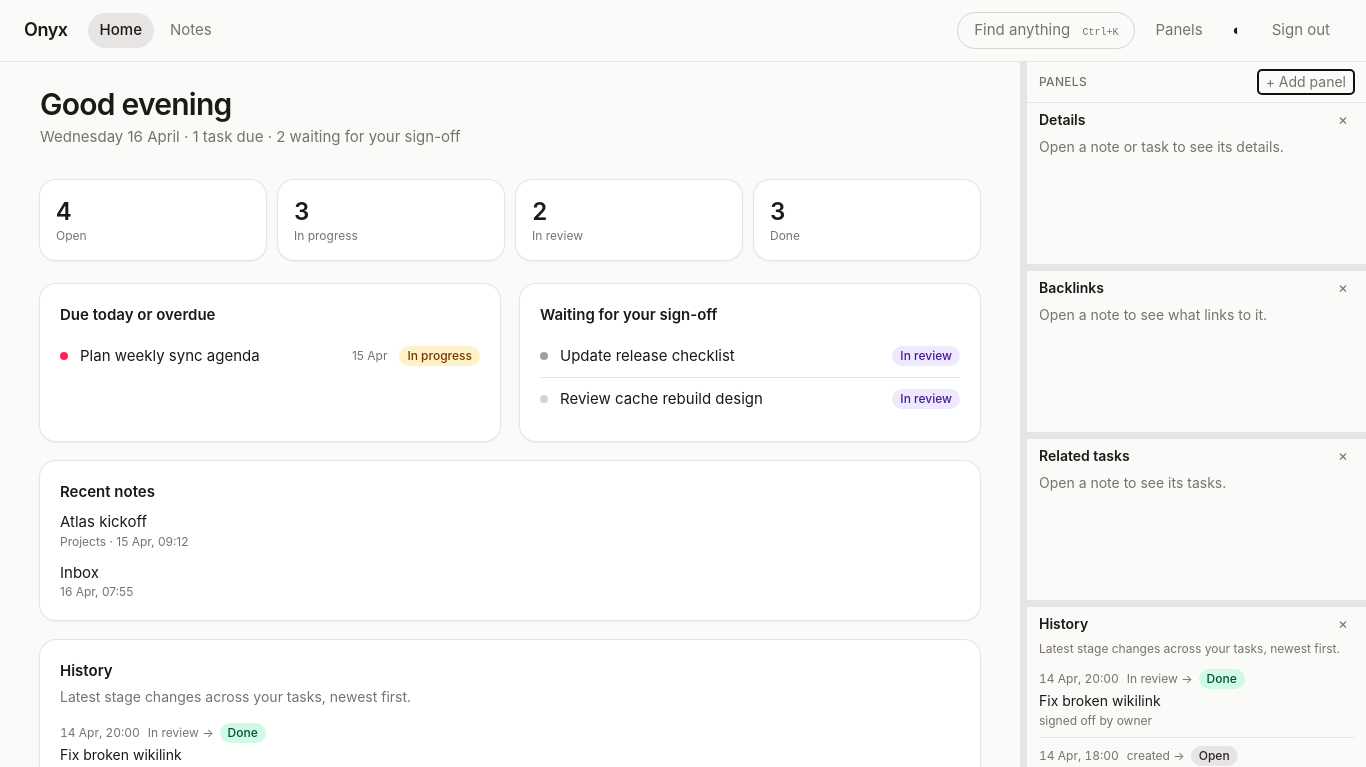
it: note panels › Tags can be added and lists every tag with its count
Press Enter
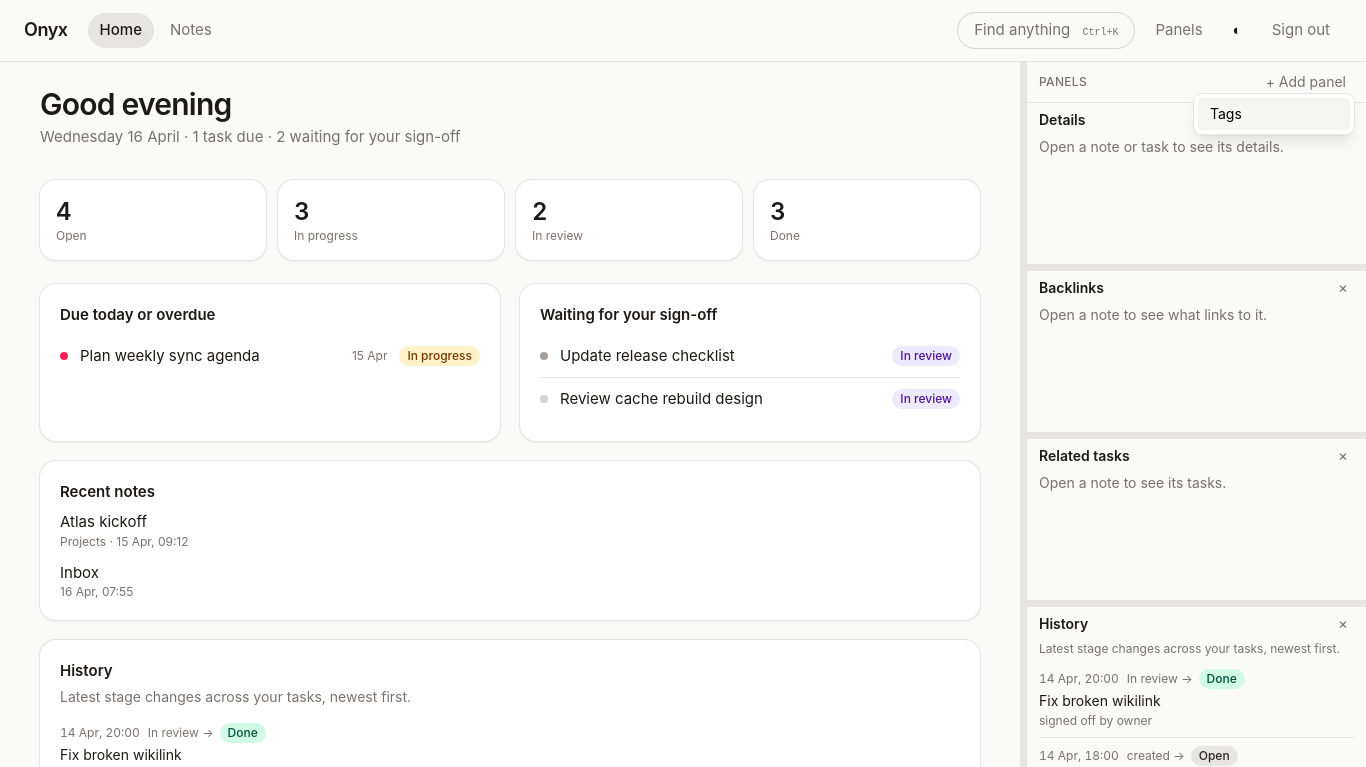
Click the menu item "Tags".
click(1274, 114)  # box [1198,98,1350,130]
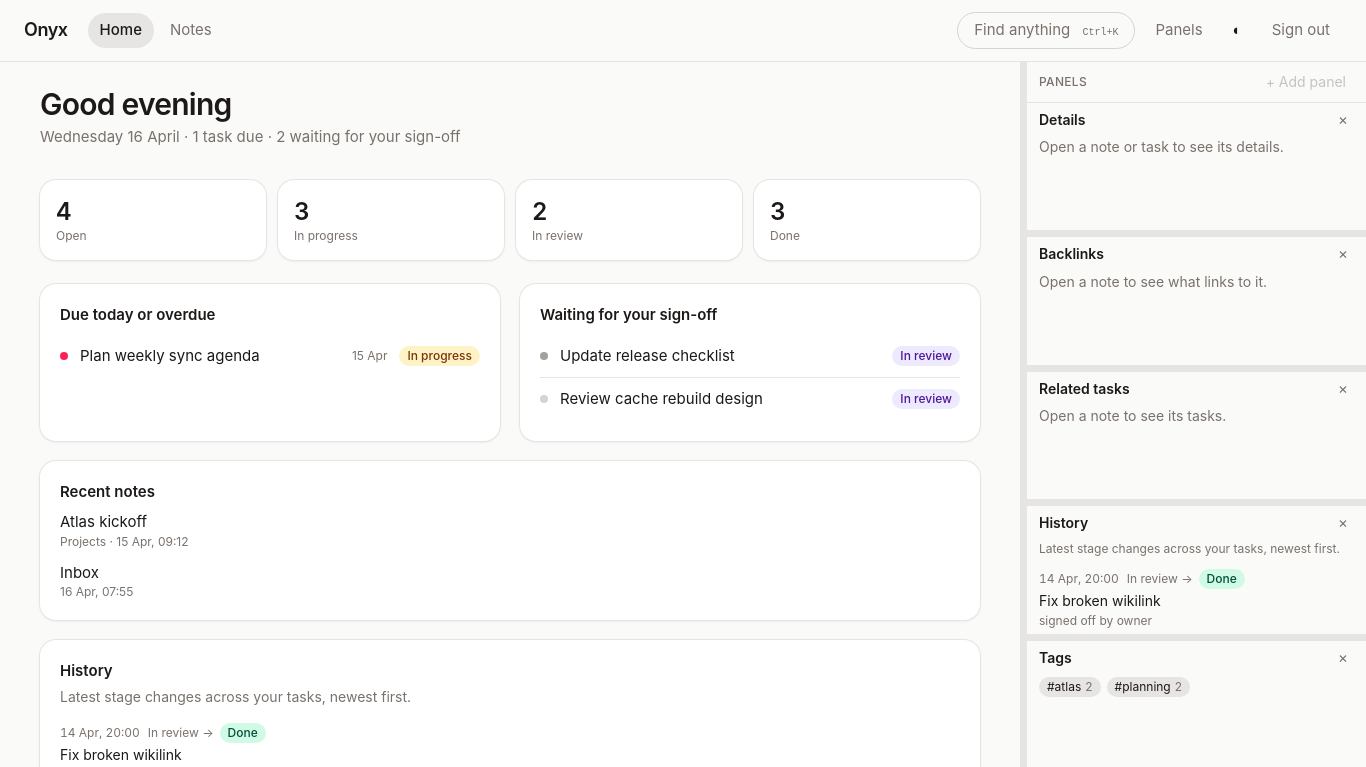
Result: the link "#planning 2" is shown at [1107,677,1190,697]
